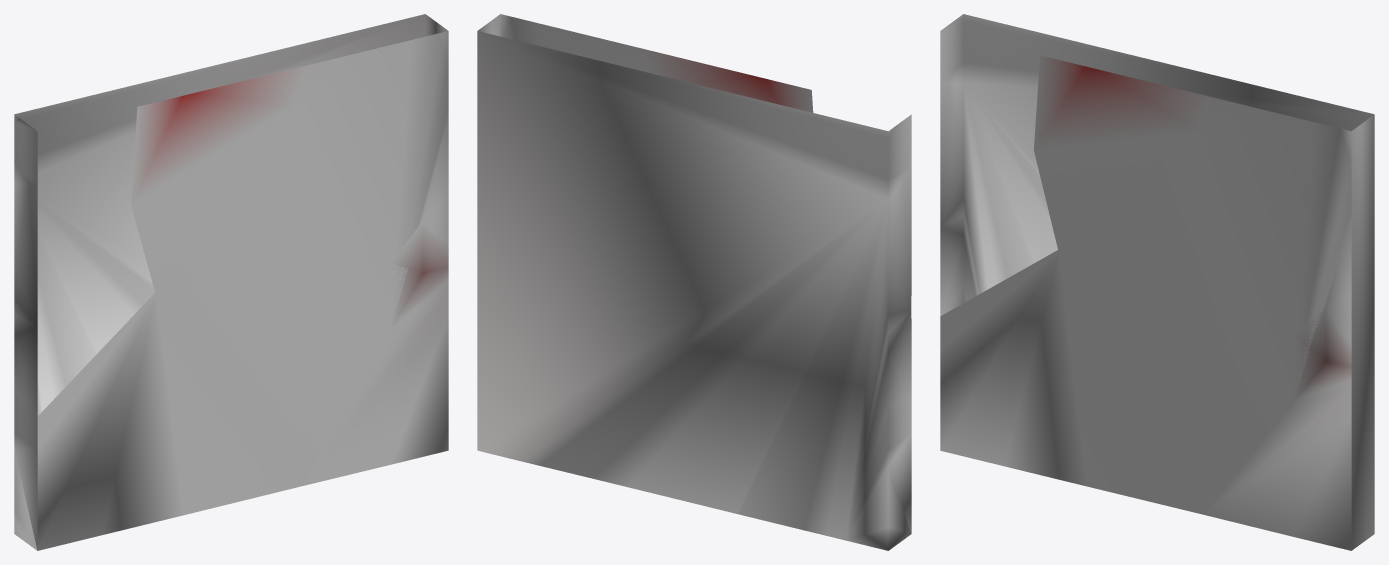
File: SM_FA_Factory_W205_H200.fbx
3 renders of one model, left to right at view 1: azimuth 30°, elevation 25°; view 2: azimuth 150°, elevation 25°; view 3: azimuth 330°, elevation 25°, orthographic.
Visible parts, largest first — view 1: SM_FA_Factory_W205_H200; view 2: SM_FA_Factory_W205_H200; view 3: SM_FA_Factory_W205_H200.
Boxes of the visible parts, x1=… form: SM_FA_Factory_W205_H200: x1=14, y1=14, x2=448, y2=550; SM_FA_Factory_W205_H200: x1=477, y1=14, x2=911, y2=550; SM_FA_Factory_W205_H200: x1=940, y1=14, x2=1374, y2=550.
Size of the model in its own units: 205 by 20 by 200.
